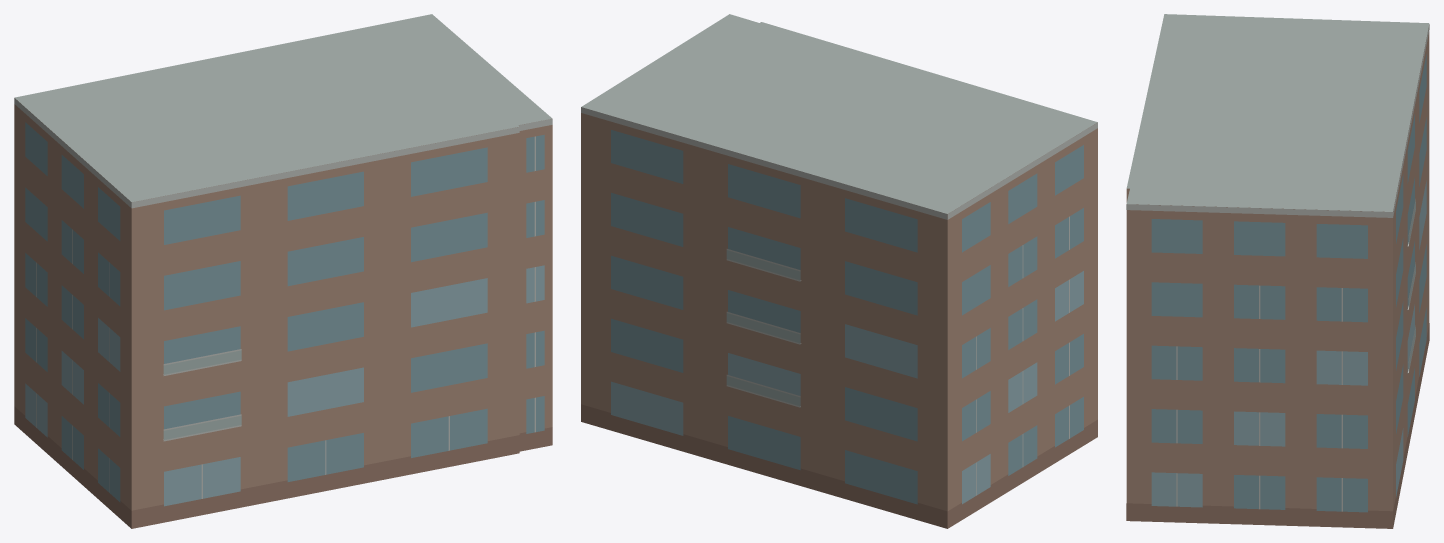
The model's file is survey-upis-32671869.glb.
The picture shows the model from 3 angles, left to right: view 1: azimuth 30°, elevation 25°; view 2: azimuth 150°, elevation 25°; view 3: azimuth 270°, elevation 25°; orthographic projection. The views are drawn at different scales.
Visible parts, largest first — view 1: survey-upis-32671869.tmp; view 2: survey-upis-32671869.tmp; view 3: survey-upis-32671869.tmp.
Part boxes in pixels (bbox=[...]): survey-upis-32671869.tmp: bbox=[14, 14, 552, 528]; survey-upis-32671869.tmp: bbox=[581, 14, 1097, 528]; survey-upis-32671869.tmp: bbox=[1126, 14, 1429, 528].
Size of the model in its own units: 17.43 by 13 by 11.28.
